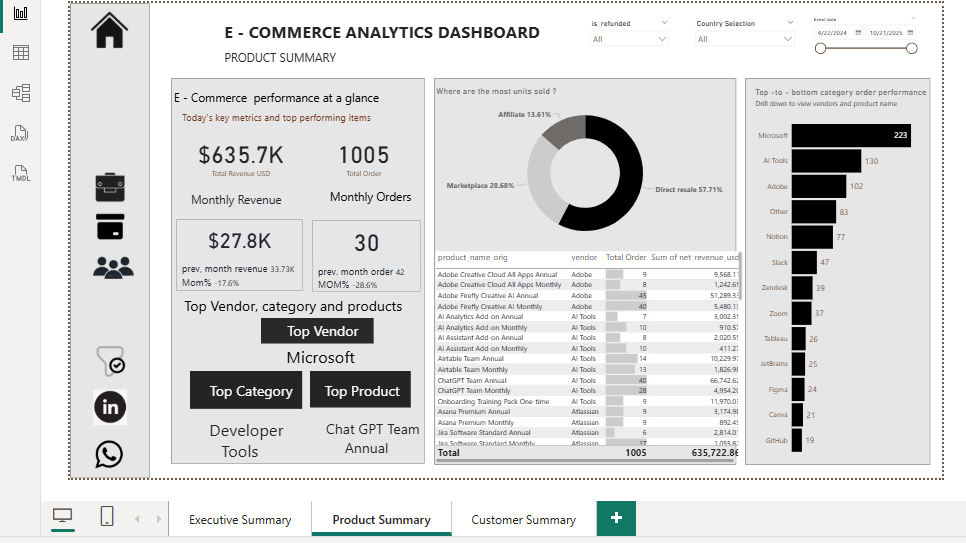

What the dashboard file says about the page in this screenshot:
{"tool":"powerbi","page":{"name":"Product Summary","canvas":[1980,1080],"ordinal":1},"visuals":[{"type":"slicer","fields":{"Values":["Events_updated.is_refunded"]},"box":[1172.9,32.4,198.7,67],"z":0},{"type":"textbox","box":[345.2,33.3,752.4,88.1],"z":1000},{"type":"textbox","box":[345.2,100,271.4,50],"z":2000},{"type":"slicer","fields":{"Values":["Customers_with_coords.country"]},"box":[1410.5,32.4,246.2,67],"z":3000},{"type":"slicer","fields":{"Values":["Events_updated.event_date"]},"box":[1678.3,25.9,257,105.8],"z":4000},{"type":"shape","box":[0,0,181.4,1080],"z":5000},{"type":"shape","box":[228.6,171.4,576.2,876.2],"z":6000},{"type":"shape","box":[827.3,170.6,686.9,879.1],"z":7000},{"type":"donutChart","title":"Where are the most units sold ?","fields":{"Category":["Products_final__3.resale_model"],"Y":["Measure Table.Total Quantity sold"]},"box":[828.3,189.1,687,373.9],"z":8000},{"type":"tableEx","fields":{"Values":["Products_final__3.product_name_orig","Products_final__3.vendor","Measure Table.Total Order","Sum(Events_updated.net_revenue_usd)"]},"box":[825.1,559.4,708.5,490.3],"z":9000},{"type":"shape","box":[1533.6,170.6,421.2,879.1],"z":10000},{"type":"barChart","title":"Top -to - bottom category order performance","fields":{"Category":["Products_final__3.vendor","Products_final__3.category","Products_final__3.product_name"],"Y":["Measure Table.Total Order"]},"box":[1553,190.1,401.8,857.5],"z":11000},{"type":"textbox","box":[208,190,596,52],"z":12000},{"type":"textbox","box":[228.6,240.5,545.2,57.1],"z":13000},{"type":"textbox","box":[228.9,660,544.4,55.6],"z":14000},{"type":"textbox","box":[433.3,715.6,255.6,57.8],"z":15000},{"type":"textbox","box":[402.2,773.3,324.4,62.2],"z":16000},{"type":"textbox","box":[273.8,835.7,254.8,85.7],"z":17000},{"type":"textbox","box":[545.2,835.7,228.6,83.3],"z":18000},{"type":"textbox","box":[544.2,920.9,260.5,97.7],"z":19000},{"type":"textbox","box":[273.8,938.1,226.2,111.9],"z":20000},{"type":"textbox","box":[545.2,938.1,257.1,109.5],"z":21000},{"type":"cardVisual","fields":{"Data":["Measure Table.Latest month Revenue"]},"box":[237,487,297.8,173.9],"z":22000},{"type":"cardVisual","fields":{"Data":["Measure Table.latest month Order"]},"box":[545.5,488.6,256.8,172.7],"z":23000},{"type":"card","fields":{"Values":["Measure Table.Total Revenue USD"]},"box":[240.5,297.6,295.2,102.4],"z":24000},{"type":"card","fields":{"Values":["Measure Table.Total Order"]},"box":[528.6,297.6,276.2,102.4],"z":25000},{"type":"image","box":[0,0,180.4,121.7],"z":26000},{"type":"image","box":[47.8,334.8,87,171.7],"z":27000},{"type":"image","box":[47.8,421.7,87,171.7],"z":28000},{"type":"image","box":[47.8,515.2,102.2,171.7],"z":29000},{"type":"image","box":[47.8,743.5,87,143.5],"z":30000},{"type":"image","box":[47.8,837,87,165.2],"z":31000},{"type":"image","box":[23.9,969.6,126.1,110.9],"z":32000},{"type":"textbox","box":[240.5,397.6,261.9,88.1],"z":33000},{"type":"textbox","box":[564.3,400,238.1,85.7],"z":34000}]}

Visuals, with their boxes on the page's 1980x1080 design canvas (x1, y1, x2, y2). These are canvas units, not pixel positions in the 966x543 screenshot, which may show the page scaled, cropped or inside an application window:
slicer - Events_updated.is_refunded: pyautogui.locateOnScreen(1173, 32, 1372, 99)
textbox: pyautogui.locateOnScreen(345, 33, 1098, 121)
textbox: pyautogui.locateOnScreen(345, 100, 617, 150)
slicer - Customers_with_coords.country: pyautogui.locateOnScreen(1410, 32, 1657, 99)
slicer - Events_updated.event_date: pyautogui.locateOnScreen(1678, 26, 1935, 132)
shape: pyautogui.locateOnScreen(0, 0, 181, 1080)
shape: pyautogui.locateOnScreen(229, 171, 805, 1048)
shape: pyautogui.locateOnScreen(827, 171, 1514, 1050)
"Where are the most units sold ?" donutChart: pyautogui.locateOnScreen(828, 189, 1515, 563)
tableEx - Products_final__3.product_name_orig x Products_final__3.vendor: pyautogui.locateOnScreen(825, 559, 1534, 1050)
shape: pyautogui.locateOnScreen(1534, 171, 1955, 1050)
"Top -to - bottom category order performance" barChart: pyautogui.locateOnScreen(1553, 190, 1955, 1048)
textbox: pyautogui.locateOnScreen(208, 190, 804, 242)
textbox: pyautogui.locateOnScreen(229, 240, 774, 298)
textbox: pyautogui.locateOnScreen(229, 660, 773, 716)
textbox: pyautogui.locateOnScreen(433, 716, 689, 773)
textbox: pyautogui.locateOnScreen(402, 773, 727, 836)
textbox: pyautogui.locateOnScreen(274, 836, 529, 921)
textbox: pyautogui.locateOnScreen(545, 836, 774, 919)
textbox: pyautogui.locateOnScreen(544, 921, 805, 1019)
textbox: pyautogui.locateOnScreen(274, 938, 500, 1050)
textbox: pyautogui.locateOnScreen(545, 938, 802, 1048)
cardVisual - Measure Table.Latest month Revenue: pyautogui.locateOnScreen(237, 487, 535, 661)
cardVisual - Measure Table.latest month Order: pyautogui.locateOnScreen(546, 489, 802, 661)
card - Measure Table.Total Revenue USD: pyautogui.locateOnScreen(240, 298, 536, 400)
card - Measure Table.Total Order: pyautogui.locateOnScreen(529, 298, 805, 400)
image: pyautogui.locateOnScreen(0, 0, 180, 122)
image: pyautogui.locateOnScreen(48, 335, 135, 506)
image: pyautogui.locateOnScreen(48, 422, 135, 593)
image: pyautogui.locateOnScreen(48, 515, 150, 687)
image: pyautogui.locateOnScreen(48, 744, 135, 887)
image: pyautogui.locateOnScreen(48, 837, 135, 1002)
image: pyautogui.locateOnScreen(24, 970, 150, 1080)
textbox: pyautogui.locateOnScreen(240, 398, 502, 486)
textbox: pyautogui.locateOnScreen(564, 400, 802, 486)
